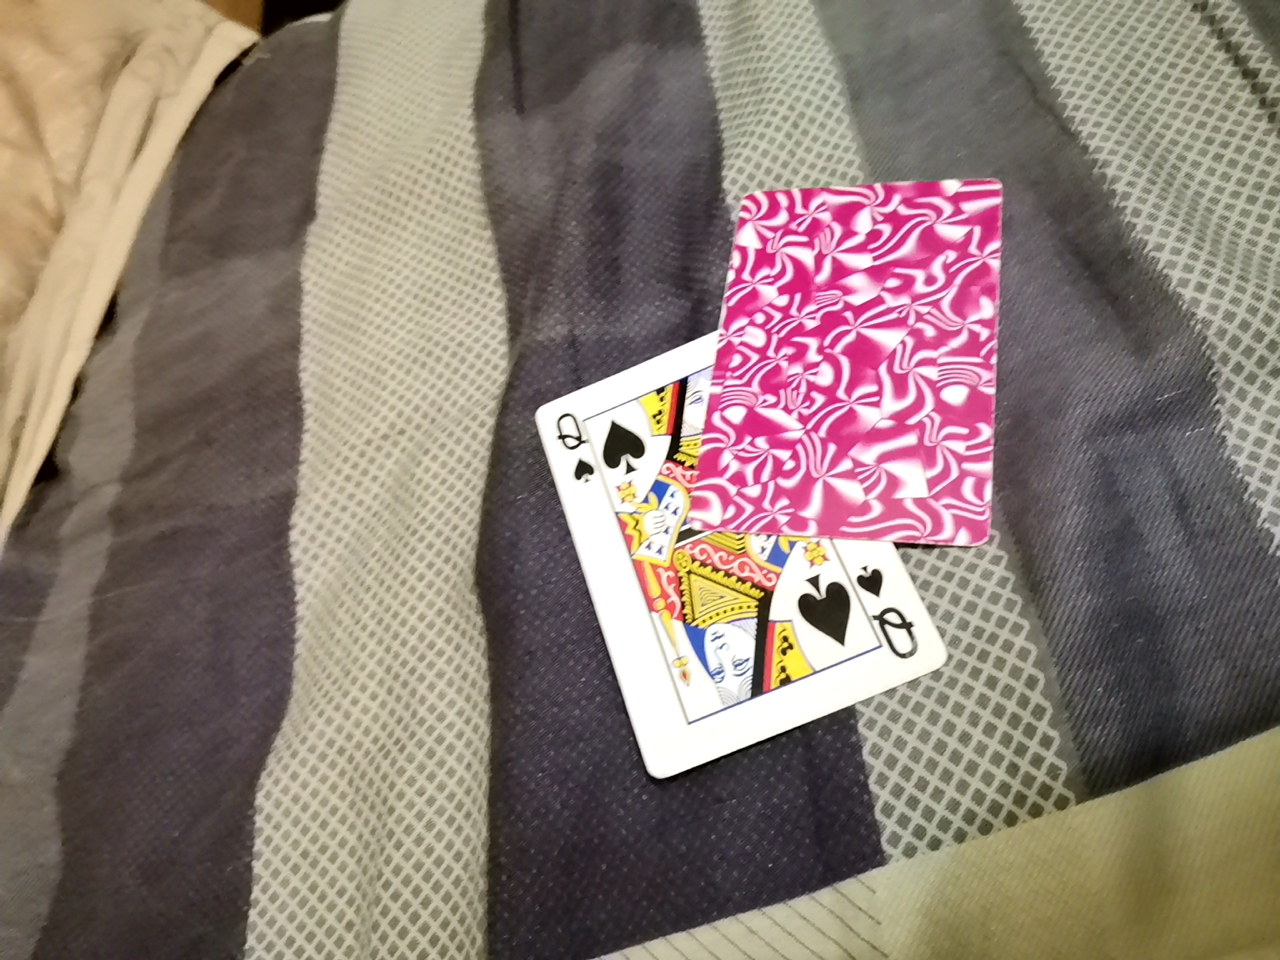ht q: (546, 317, 950, 786)
